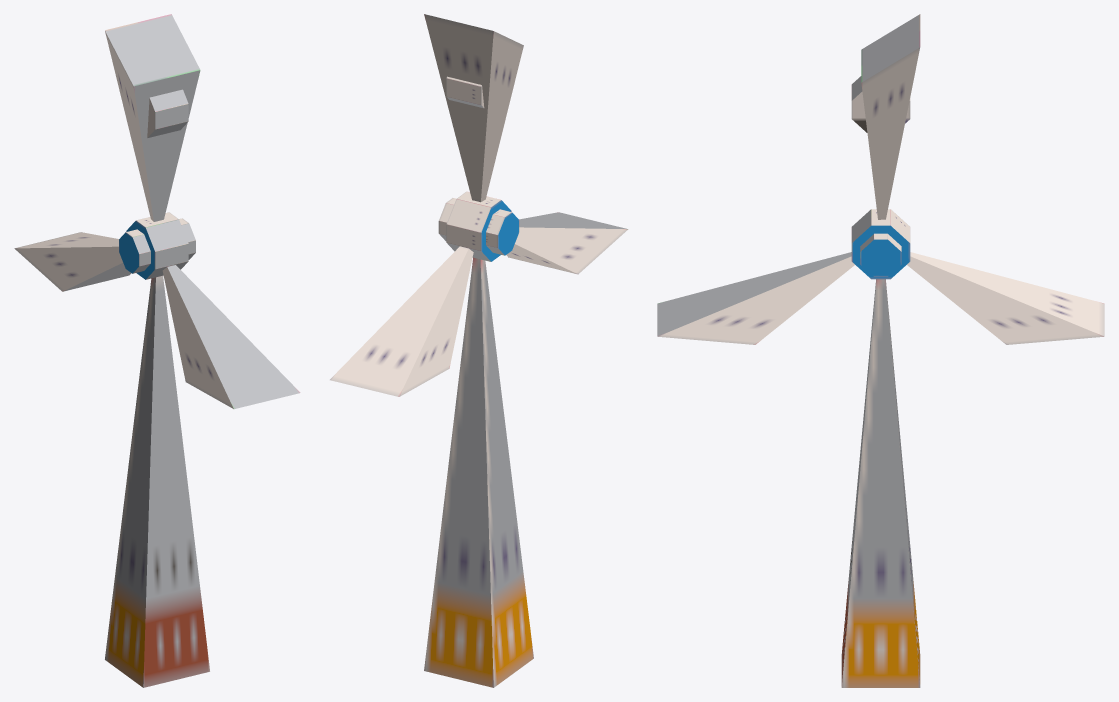
Rendered from solar-energy.gltf.
The picture shows the model from 3 angles, left to right: view 1: azimuth 30°, elevation 25°; view 2: azimuth 150°, elevation 25°; view 3: azimuth 270°, elevation 25°; orthographic projection. The views are drawn at different scales.
Size of the model in its own units: 1 by 9 by 5.7.
1 material, 1 textured.
